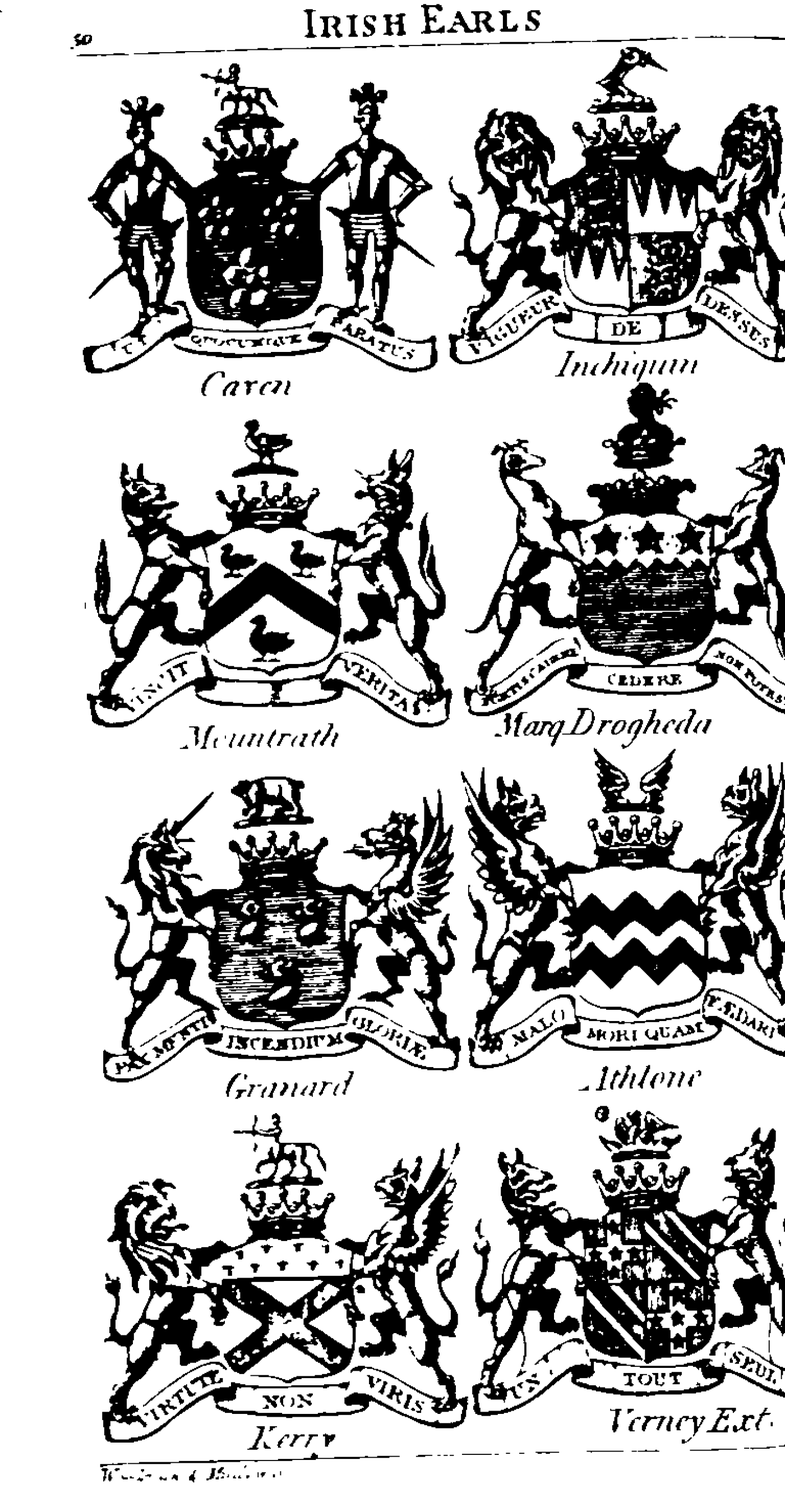coat_of_arms: (99, 1101, 490, 1453), (59, 52, 440, 407), (91, 410, 464, 763), (99, 753, 458, 1108), (457, 739, 785, 1101), (439, 50, 785, 383), (464, 392, 785, 748), (472, 1091, 785, 1446)
